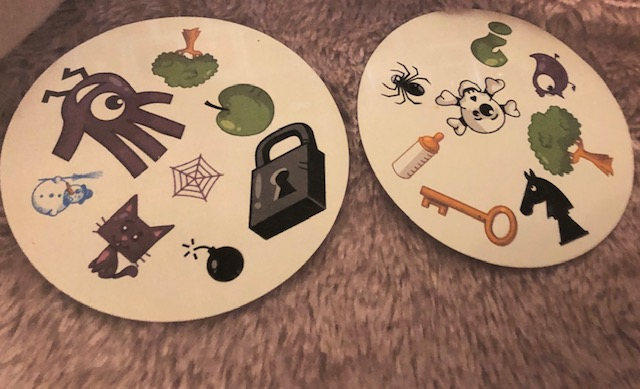araignee: (376, 57, 435, 111)
arbre: (523, 105, 619, 182), (148, 24, 217, 88)
biberon: (390, 129, 446, 183)
bombe: (179, 234, 250, 282)
bonhomme_neige: (27, 169, 104, 217)
cadenas: (241, 115, 329, 236)
chat: (82, 188, 180, 284)
cheval: (513, 163, 591, 241)
cle: (411, 178, 519, 249)
dooble: (38, 61, 182, 175)
oiseau: (524, 49, 575, 100)
point_interrogation: (466, 19, 515, 71)
pomme: (202, 80, 279, 138)
tete_mort: (432, 69, 521, 137)
toile: (165, 149, 227, 205)
